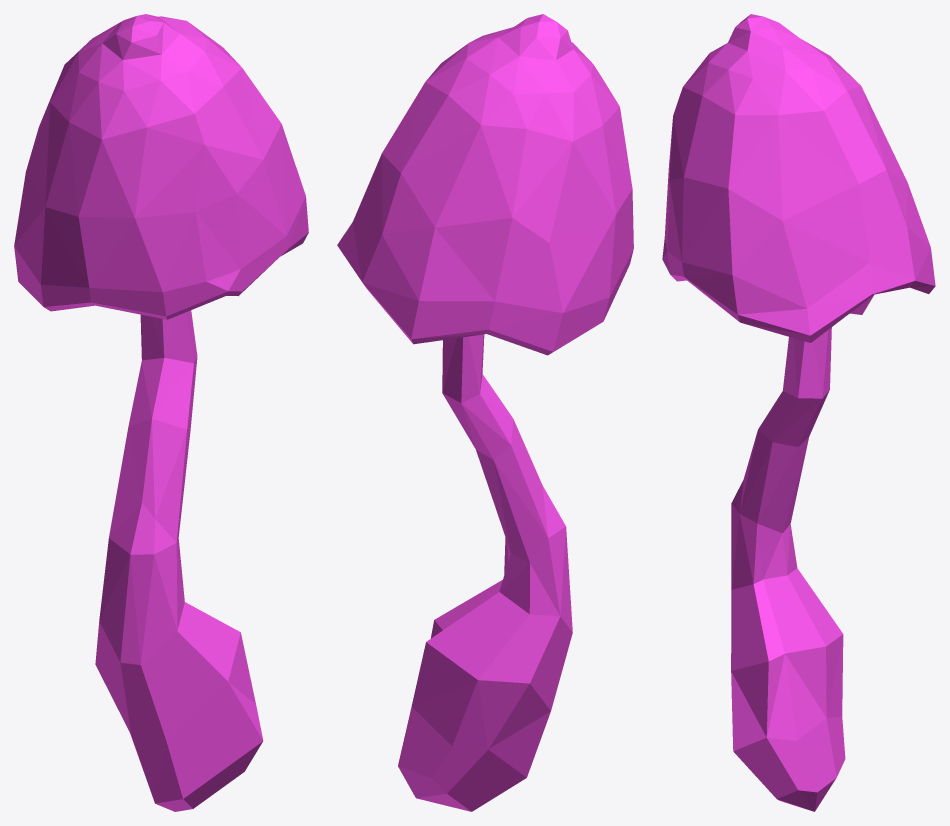
The model's file is SM_Mushroom_Slim_Medium_A_Fantasy.fbx.
3 renders of one model, left to right at view 1: azimuth 30°, elevation 25°; view 2: azimuth 150°, elevation 25°; view 3: azimuth 270°, elevation 25°, orthographic. The views are drawn at different scales.
Parts seen in each view (by area): view 1: SM_Mushroom_Slim_Medium_A_Fantasy; view 2: SM_Mushroom_Slim_Medium_A_Fantasy; view 3: SM_Mushroom_Slim_Medium_A_Fantasy.
Boxes of the visible parts, x1,y1,x2,y2 form: SM_Mushroom_Slim_Medium_A_Fantasy: (14,14,308,811); SM_Mushroom_Slim_Medium_A_Fantasy: (337,14,633,811); SM_Mushroom_Slim_Medium_A_Fantasy: (662,14,935,811).
Size of the model in its own units: 0.3738 by 1.13 by 0.3685.
